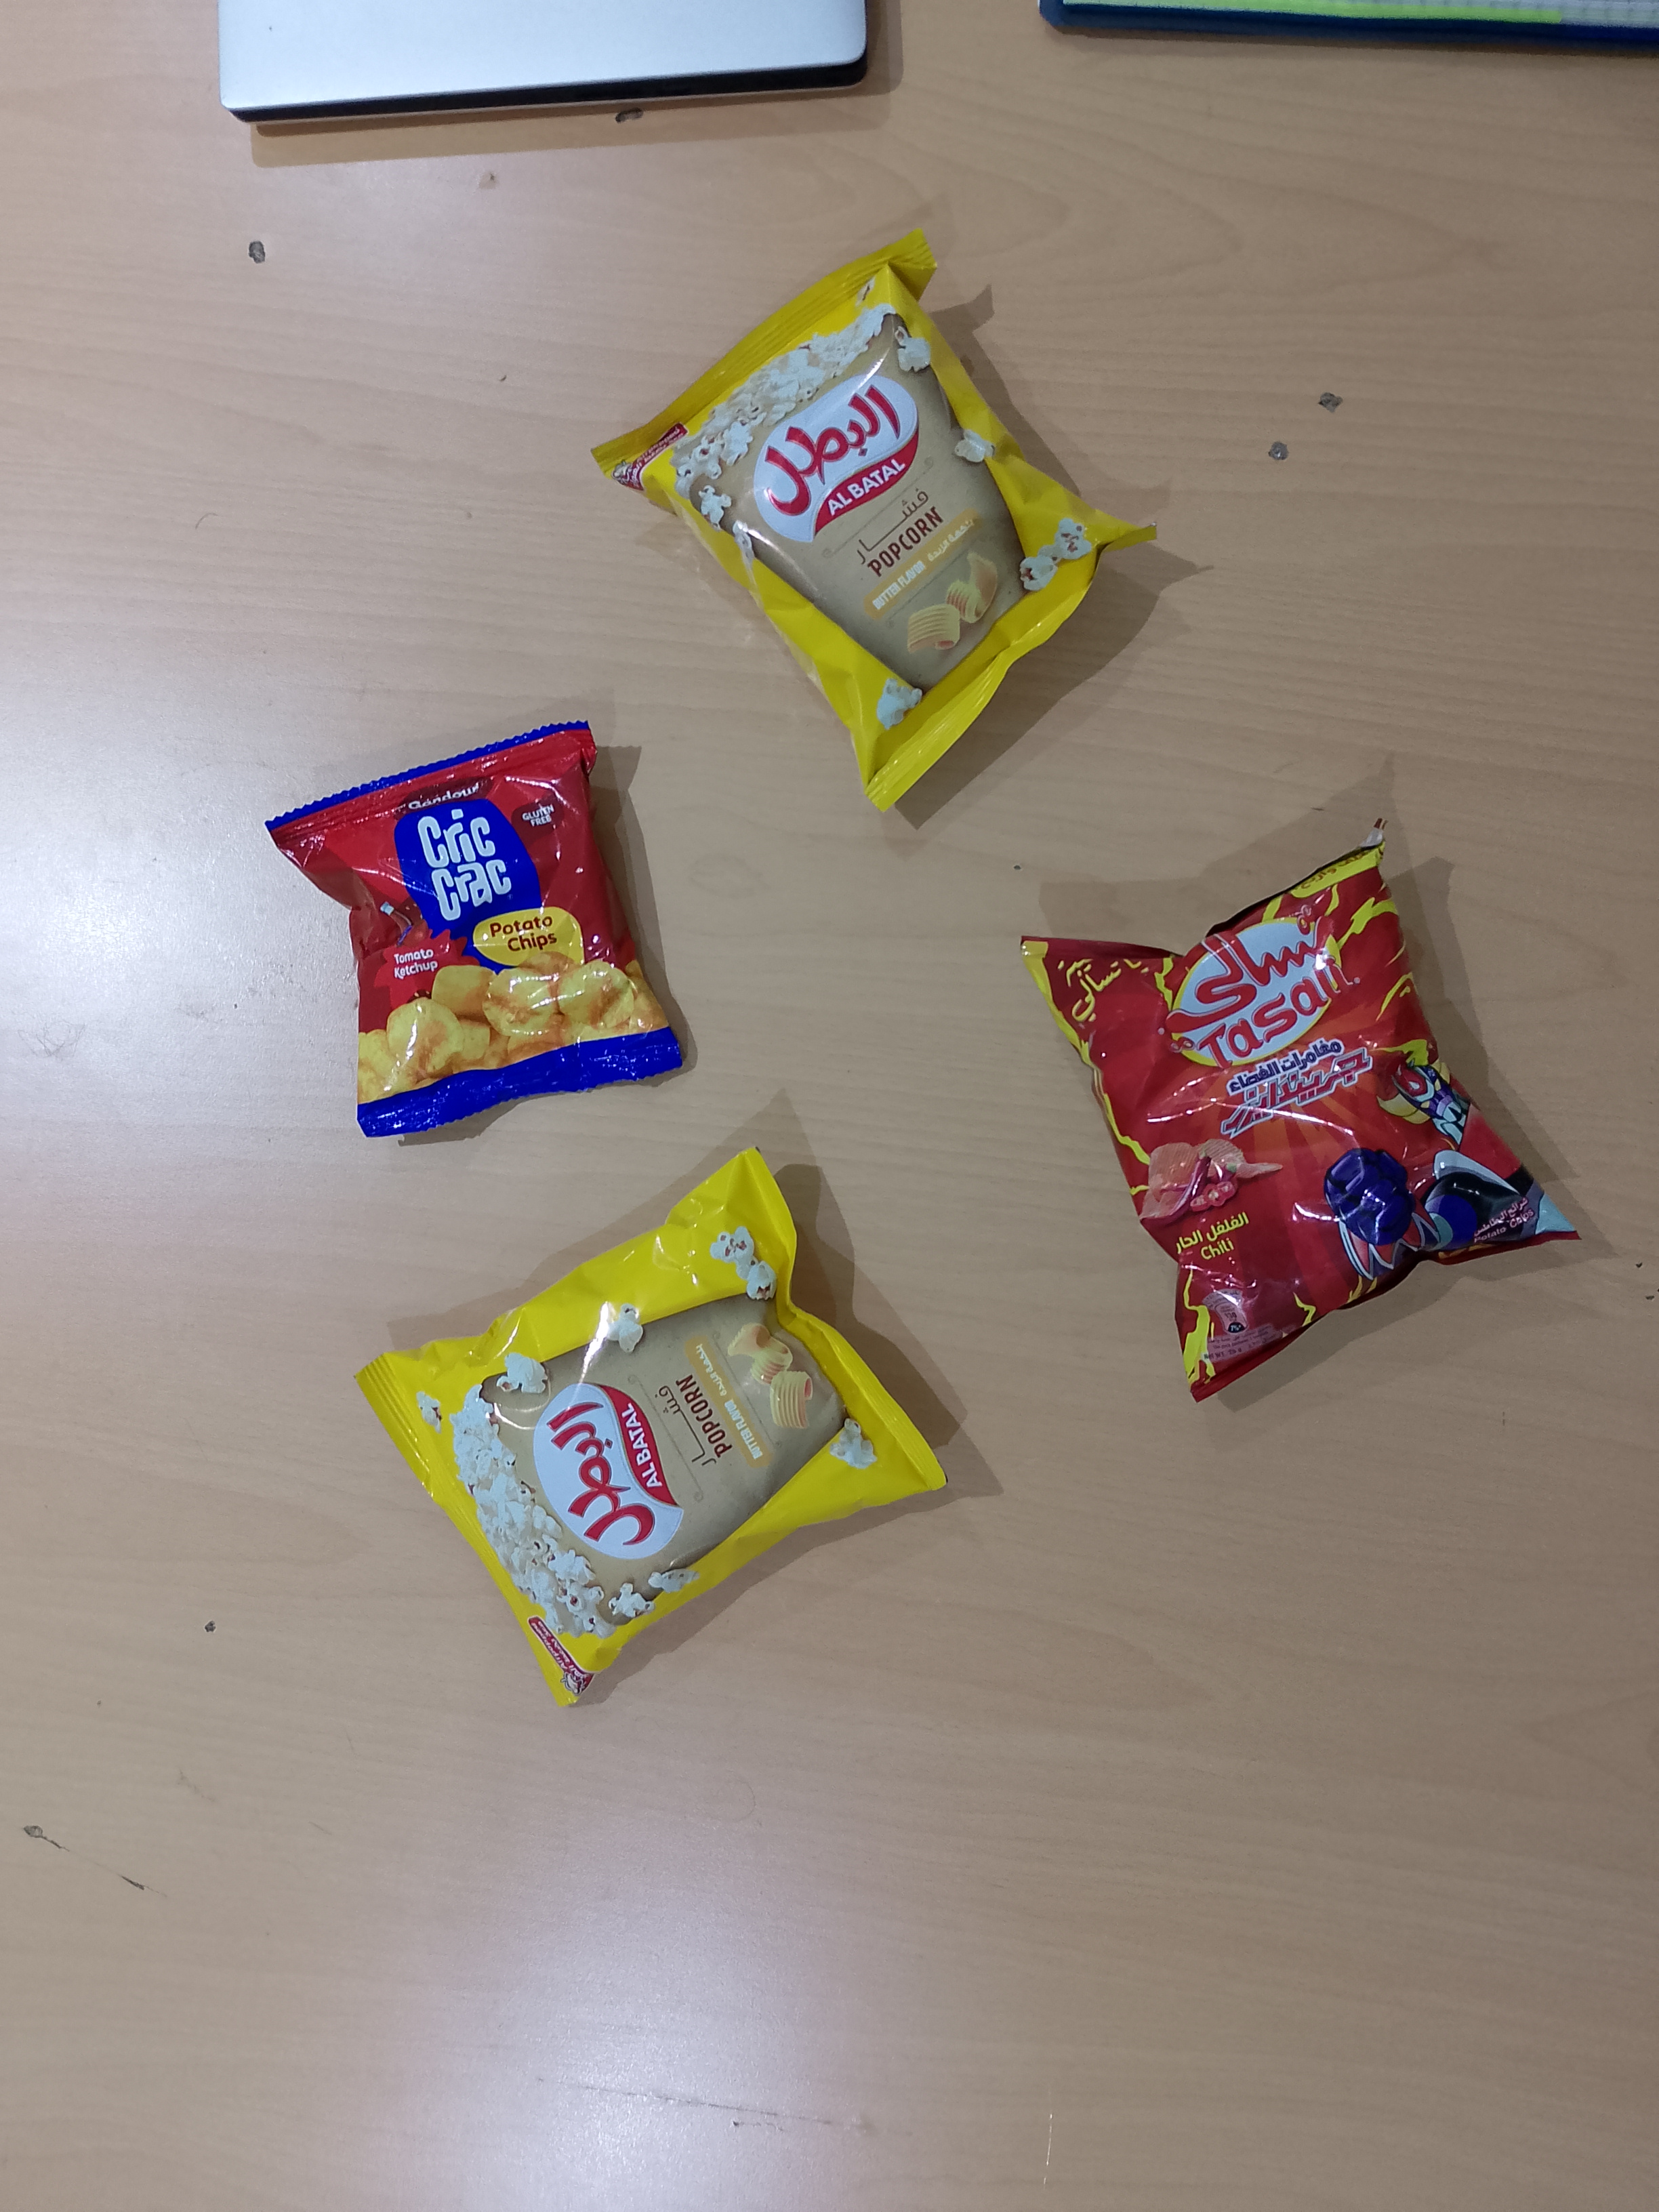albatal_popcorn_butter_flavor: (351, 1145, 949, 1708), (588, 226, 1159, 815)
cric_crac_tomato_ketchup: (263, 720, 684, 1139)
tasali_hot_chili: (1019, 817, 1584, 1405)
